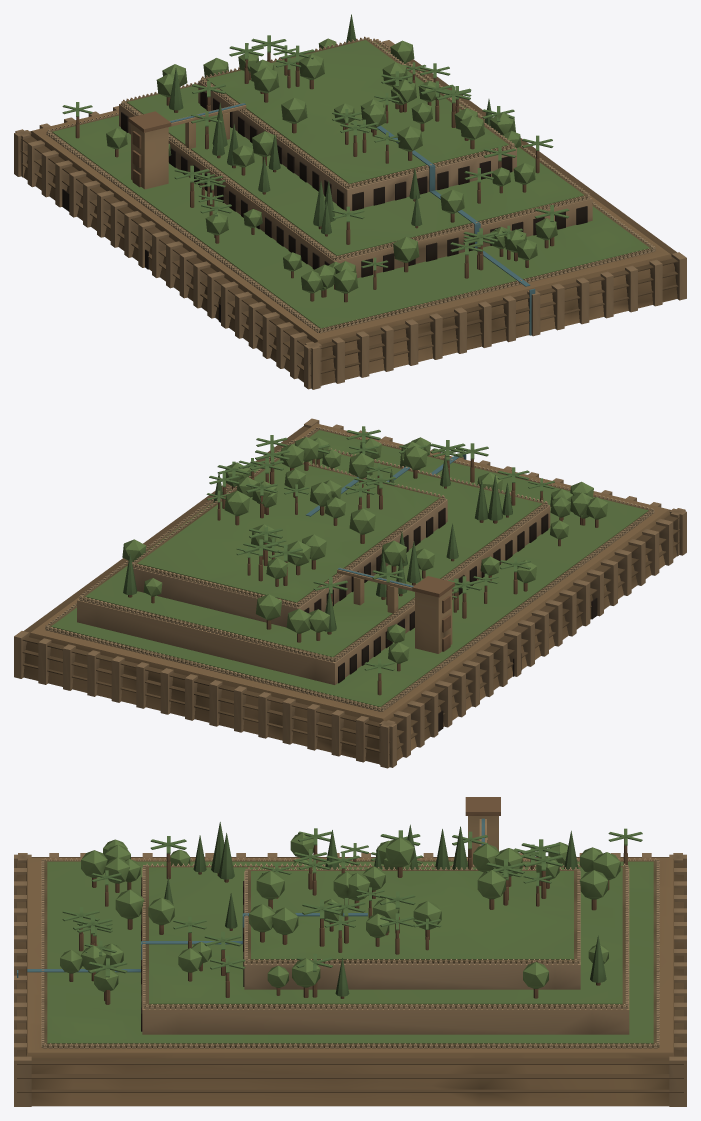
The model's file is hanging-gardens.glb.
3 views of the same model, one above another, from view 1: azimuth 30°, elevation 25°; view 2: azimuth 150°, elevation 25°; view 3: azimuth 270°, elevation 25° (orthographic). The views are drawn at different scales.
Parts seen in each view (by area): view 1: p1_terraces, p0_outwork, p2_trees; view 2: p1_terraces, p0_outwork, p2_trees; view 3: p1_terraces, p0_outwork, p2_trees.
Boxes of the visible parts, x1=… form: p1_terraces: x1=46, y1=36, x2=655, y2=335; p0_outwork: x1=14, y1=40, x2=686, y2=389; p2_trees: x1=62, y1=14, x2=569, y2=302; p1_terraces: x1=45, y1=427, x2=654, y2=711; p0_outwork: x1=14, y1=418, x2=686, y2=768; p2_trees: x1=122, y1=426, x2=607, y2=681; p1_terraces: x1=17, y1=797, x2=659, y2=1048; p0_outwork: x1=14, y1=853, x2=686, y2=1106; p2_trees: x1=60, y1=822, x2=642, y2=1000.
Size of the model in its own units: 111 by 36.67 by 152.
